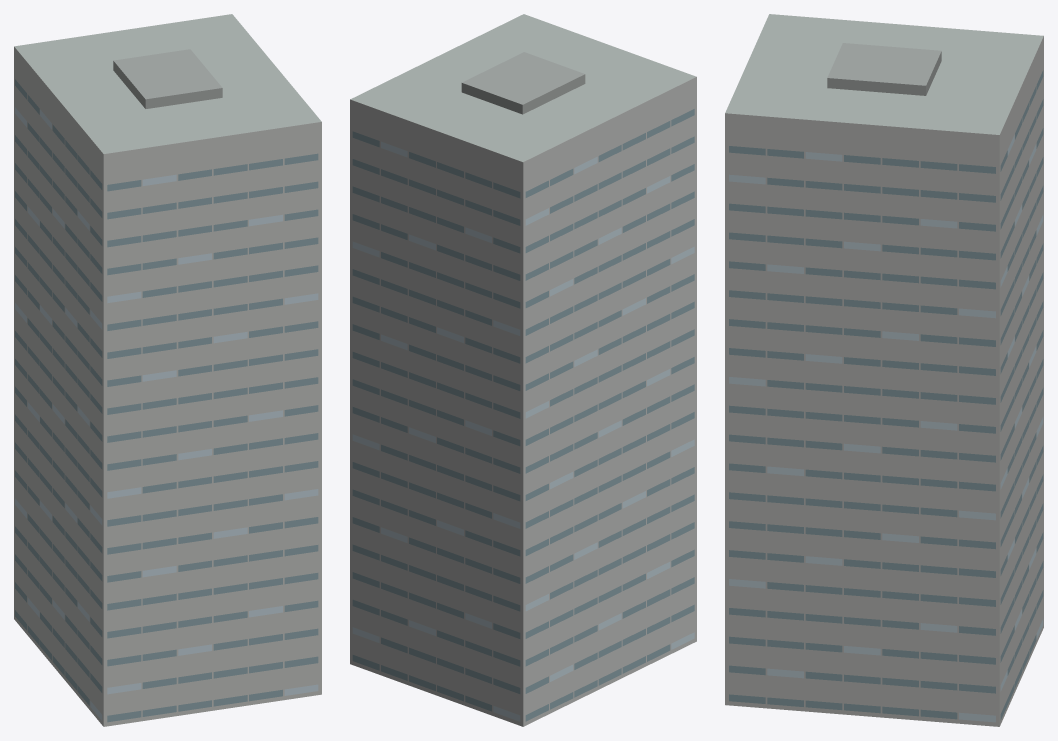
Rendered from apt-a15601002.glb.
3 renders of one model, left to right at view 1: azimuth 30°, elevation 25°; view 2: azimuth 150°, elevation 25°; view 3: azimuth 270°, elevation 25°, orthographic. The views are drawn at different scales.
Parts seen in each view (by area): view 1: apt-a15601002; view 2: apt-a15601002; view 3: apt-a15601002.
Boxes of the visible parts, x1=… form: apt-a15601002: x1=14, y1=14, x2=321, y2=726; apt-a15601002: x1=350, y1=14, x2=696, y2=726; apt-a15601002: x1=725, y1=14, x2=1043, y2=726.
Bounding box in the file's own units: 61.26 × 142 × 68.16.
